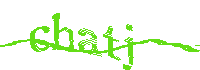a: (76, 27, 103, 58)
c: (29, 24, 53, 55)
h: (53, 7, 76, 53)
j: (123, 22, 134, 70)
t: (102, 25, 123, 64)
